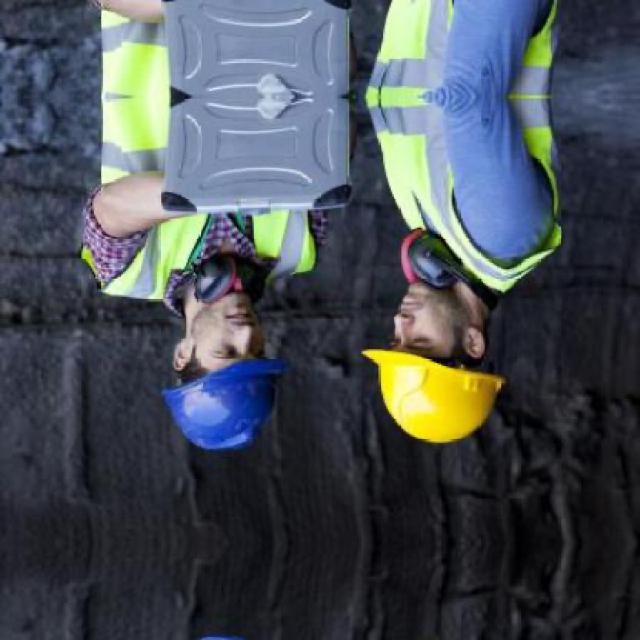con casco: (362, 242, 541, 462), (143, 276, 294, 462)
